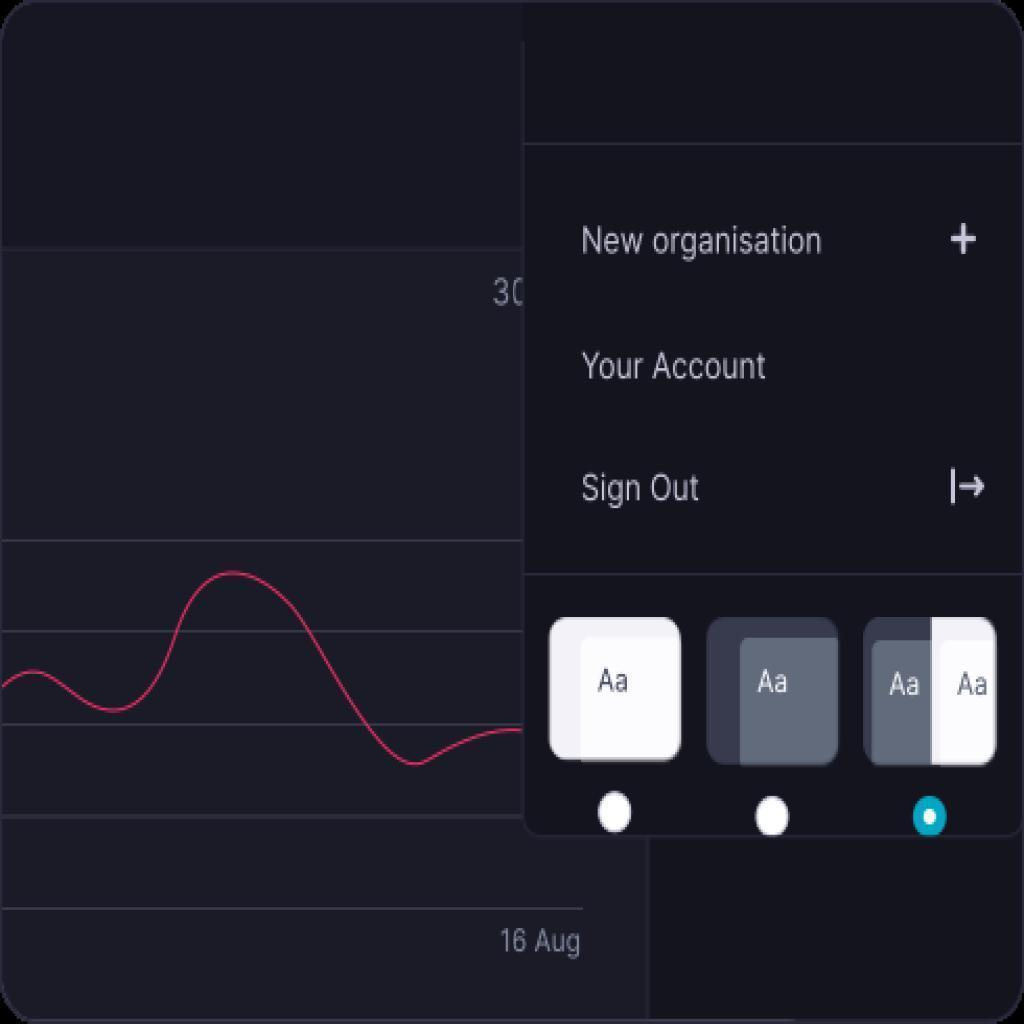icon: (942, 456, 993, 512), (941, 215, 989, 262)
radio: (754, 794, 789, 842), (597, 787, 634, 832), (912, 793, 948, 838)
